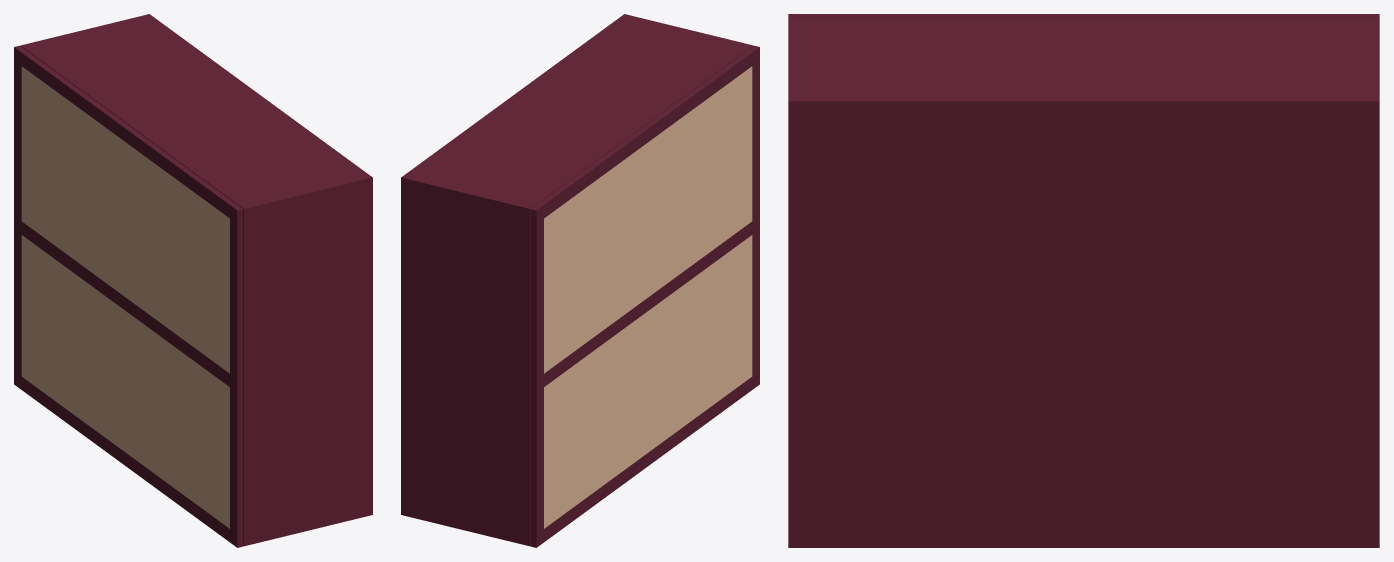
File: dispensa.fbx
3 renders of one model, left to right at view 1: azimuth 30°, elevation 25°; view 2: azimuth 150°, elevation 25°; view 3: azimuth 270°, elevation 25°, orthographic. The views are drawn at different scales.
Visible parts, largest first — view 1: Body1, sportelli (×4), bordo (×2), Body11, Body7; view 2: Body1, sportelli (×4), bordo (×2), Body7, Body11; view 3: Body1, bordo (×2).
Part boxes in pixels (<box>): Body1: <box>20,14,372,546</box>; sportelli (×4): <box>21,66,229,528</box>; bordo (×2): <box>14,45,243,385</box>; Body11: <box>125,304,243,547</box>; Body7: <box>14,222,125,465</box>; Body1: <box>401,14,753,546</box>; sportelli (×4): <box>544,66,752,528</box>; bordo (×2): <box>530,45,759,385</box>; Body7: <box>530,304,648,547</box>; Body11: <box>648,222,759,465</box>; Body1: <box>788,18,1379,547</box>; bordo (×2): <box>788,14,1379,17</box>.
Size of the model in its own units: 42 by 120 by 100.
